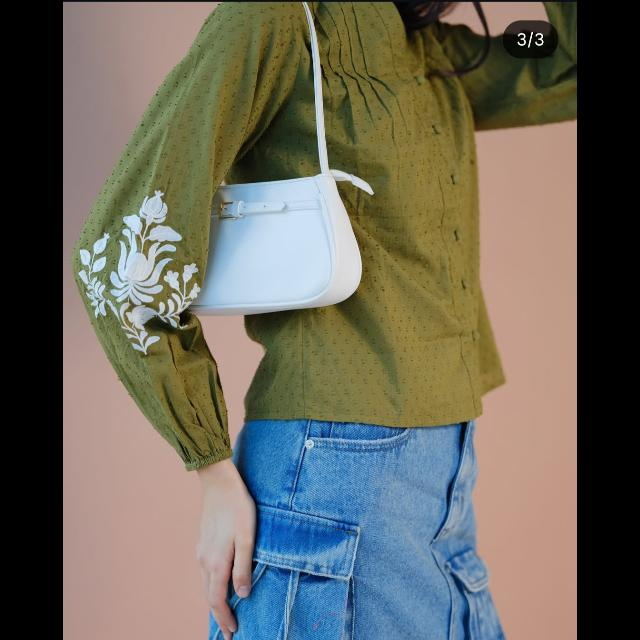bottom: (216, 408, 504, 640)
handbag: (212, 6, 361, 312)
top: (98, 6, 504, 418)
